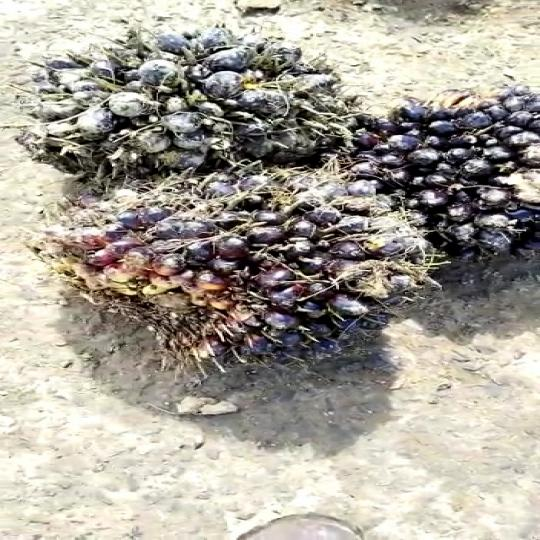mentah: (60, 182, 430, 387), (32, 26, 362, 179), (377, 86, 540, 281)
